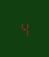four: (19, 20, 28, 36)
